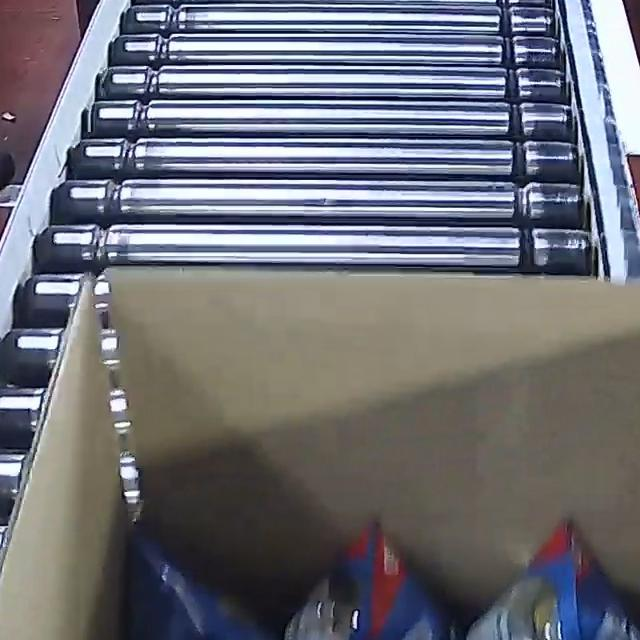paprika: (106, 513, 640, 640)
